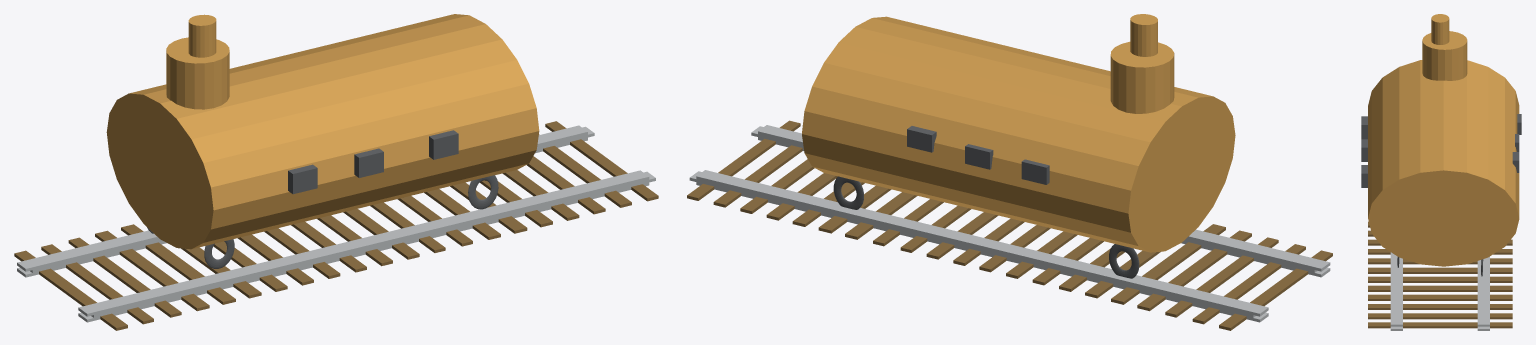
Rendered from Shiny Vihelmo-Gogo.glb.
3 views of the same model, side by side, from view 1: azimuth 30°, elevation 25°; view 2: azimuth 150°, elevation 25°; view 3: azimuth 270°, elevation 25° (orthographic). The views are drawn at different scales.
Parts seen in each view (by area): view 1: Mesh_Mesh_head_geo.001_lambert2SG.001; view 2: Mesh_Mesh_head_geo.001_lambert2SG.001; view 3: Mesh_Mesh_head_geo.001_lambert2SG.001.
Part boxes in pixels (left/top/right/bottom): Mesh_Mesh_head_geo.001_lambert2SG.001: left=14, top=14, right=658, bottom=330; Mesh_Mesh_head_geo.001_lambert2SG.001: left=687, top=14, right=1332, bottom=330; Mesh_Mesh_head_geo.001_lambert2SG.001: left=1361, top=14, right=1521, bottom=330.
Size of the model in its own units: 206 by 83 by 71.
